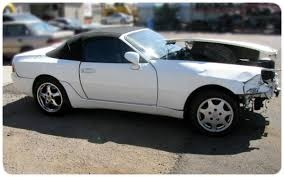Dent: (194, 68, 214, 82), (236, 70, 252, 83)
Smashed: (224, 65, 278, 132)
